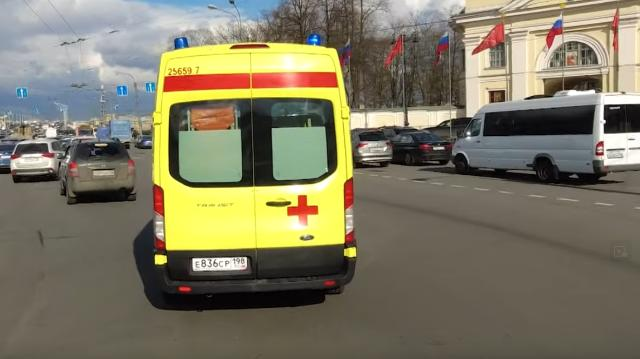intensive care unit: (152, 36, 358, 304)
non emergency car: (452, 93, 640, 186), (61, 142, 137, 207), (13, 139, 64, 184), (393, 128, 448, 168), (356, 130, 393, 170)
